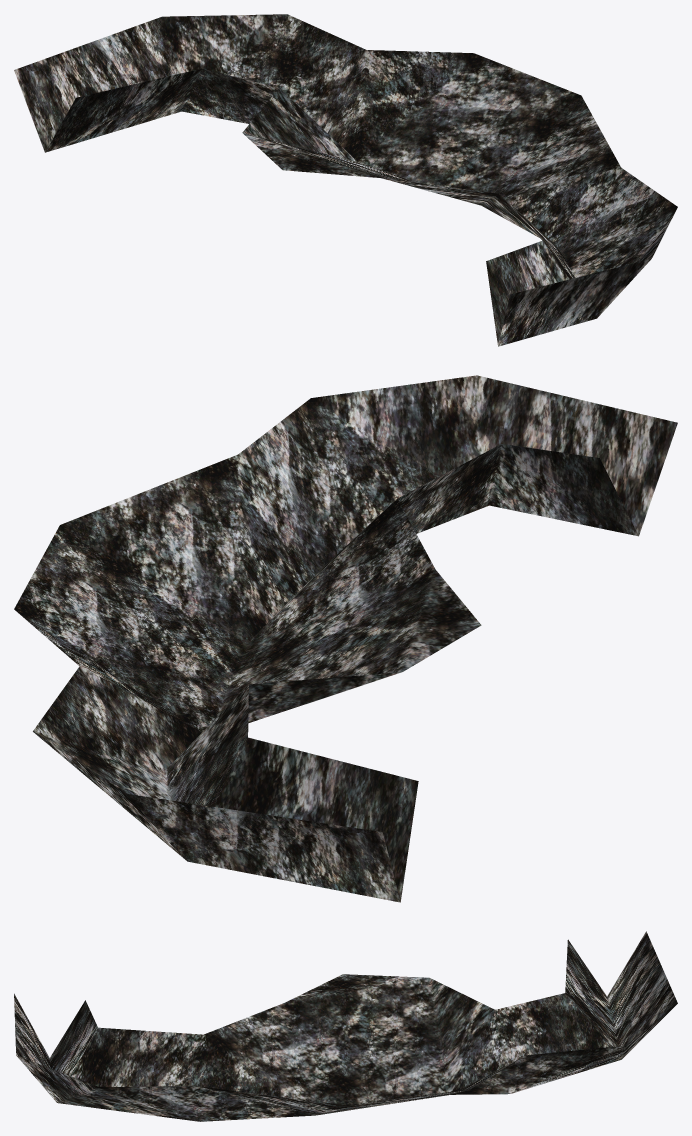
The model's file is OVERHILL_A_01_OH_HOLE_BOTTOM47365.fbx.
The picture shows the model from 3 angles, top to bottom: view 1: azimuth 30°, elevation 25°; view 2: azimuth 150°, elevation 25°; view 3: azimuth 270°, elevation 25°; orthographic projection. The views are drawn at different scales.
Visible parts, largest first — view 1: OVERHILL_A_01_OH_HOLE_BOTTOM47365; view 2: OVERHILL_A_01_OH_HOLE_BOTTOM47365; view 3: OVERHILL_A_01_OH_HOLE_BOTTOM47365.
Part boxes in pixels (x1,y1,x2,y2): OVERHILL_A_01_OH_HOLE_BOTTOM47365: [14, 14, 677, 346]; OVERHILL_A_01_OH_HOLE_BOTTOM47365: [14, 375, 677, 902]; OVERHILL_A_01_OH_HOLE_BOTTOM47365: [14, 931, 677, 1121].
Size of the model in its own units: 234531 by 38627 by 377921.
1 material, 1 textured.
